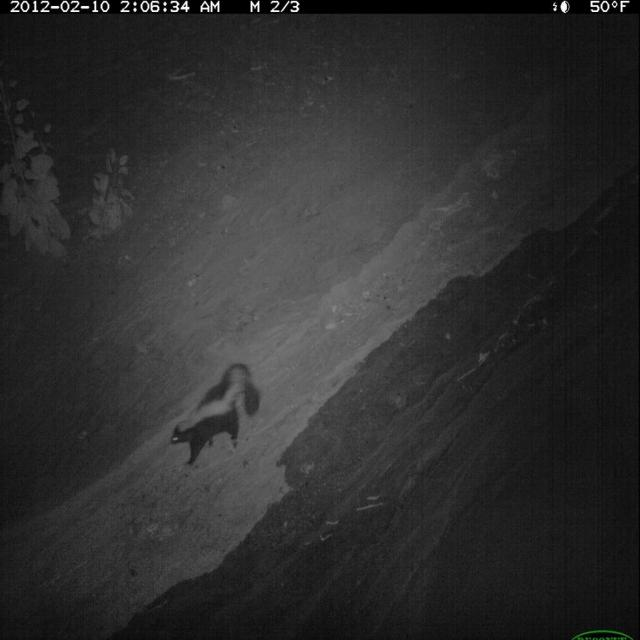skunk: (169, 360, 263, 470)
